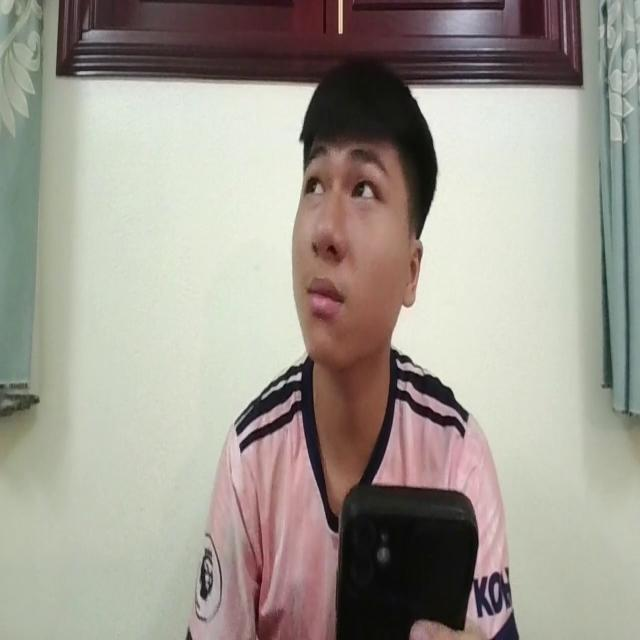phone: (334, 481, 481, 640)
student: (184, 53, 514, 640)
